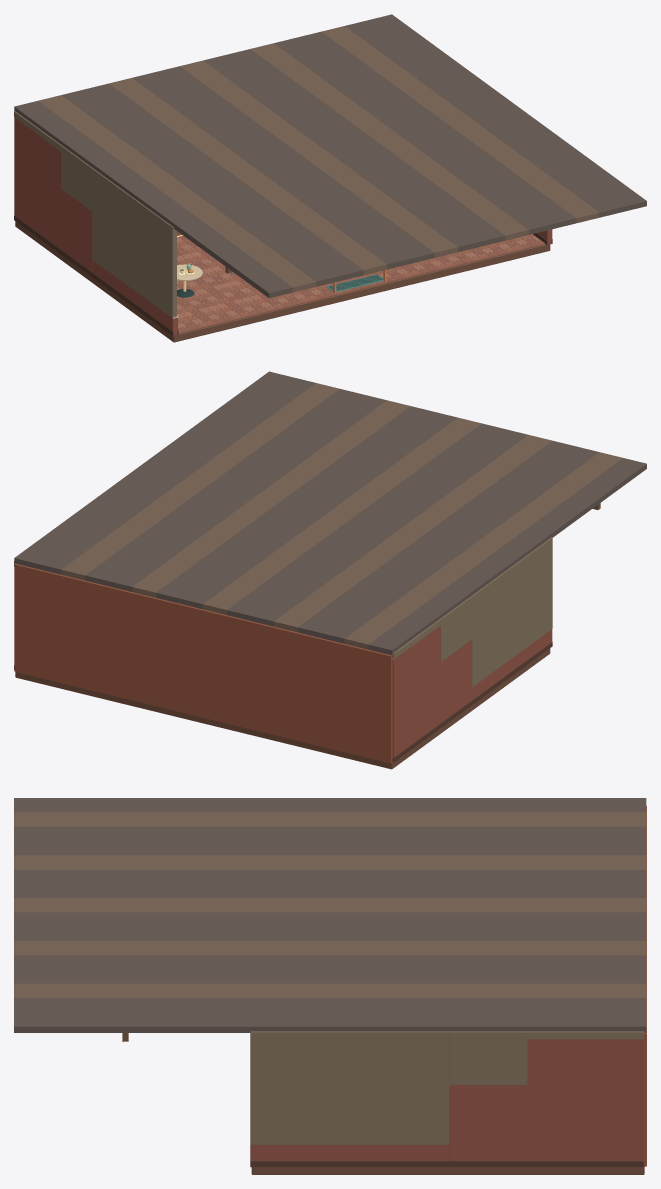
The model's file is cafe.glb.
The picture shows the model from 3 angles, top to bottom: view 1: azimuth 30°, elevation 25°; view 2: azimuth 150°, elevation 25°; view 3: azimuth 270°, elevation 25°; orthographic projection. The views are drawn at different scales.
Parts seen in each view (by area): view 1: Ceiling_smoked walnut, Ceiling_walnut boards, Ceiling_Interior return walls, Forest_Quarry tile and grout, Forest_redwood, Forest_tileEdge, Forest_shadeBrown; view 2: Ceiling_smoked walnut, Forest_beam, Ceiling_walnut boards, Ceiling_Interior return walls, Forest_redwood, Forest_tileEdge, Forest_shadeBrown; view 3: Ceiling_smoked walnut, Ceiling_walnut boards, Ceiling_Interior return walls, Forest_redwood, Forest_tileEdge, Forest_shadeBrown, Forest_beam.
Part boxes in pixels (left/top/right/bottom): Ceiling_smoked walnut: left=14, top=14, right=646, bottom=298; Ceiling_walnut boards: left=38, top=26, right=599, bottom=292; Ceiling_Interior return walls: left=14, top=111, right=176, bottom=318; Forest_Quarry tile and grout: left=177, top=234, right=544, bottom=332; Forest_redwood: left=14, top=117, right=552, bottom=336; Forest_tileEdge: left=15, top=221, right=550, bottom=342; Forest_shadeBrown: left=14, top=215, right=552, bottom=335; Ceiling_smoked walnut: left=14, top=371, right=646, bottom=655; Forest_beam: left=14, top=563, right=392, bottom=763; Ceiling_walnut boards: left=61, top=383, right=622, bottom=649; Ceiling_Interior return walls: left=14, top=537, right=552, bottom=687; Forest_redwood: left=392, top=625, right=552, bottom=762; Forest_tileEdge: left=15, top=648, right=550, bottom=769; Forest_shadeBrown: left=14, top=642, right=552, bottom=762; Ceiling_smoked walnut: left=14, top=798, right=646, bottom=1032; Ceiling_walnut boards: left=14, top=812, right=646, bottom=997; Ceiling_Interior return walls: left=250, top=1031, right=643, bottom=1144; Forest_redwood: left=250, top=1039, right=643, bottom=1167; Forest_tileEdge: left=251, top=1166, right=644, bottom=1174; Forest_shadeBrown: left=250, top=1161, right=643, bottom=1166; Forest_beam: left=644, top=805, right=646, bottom=1166.
Bounding box in the file's own units: 13.36 × 4.03 × 15.54.
49 materials, 7 textured.
